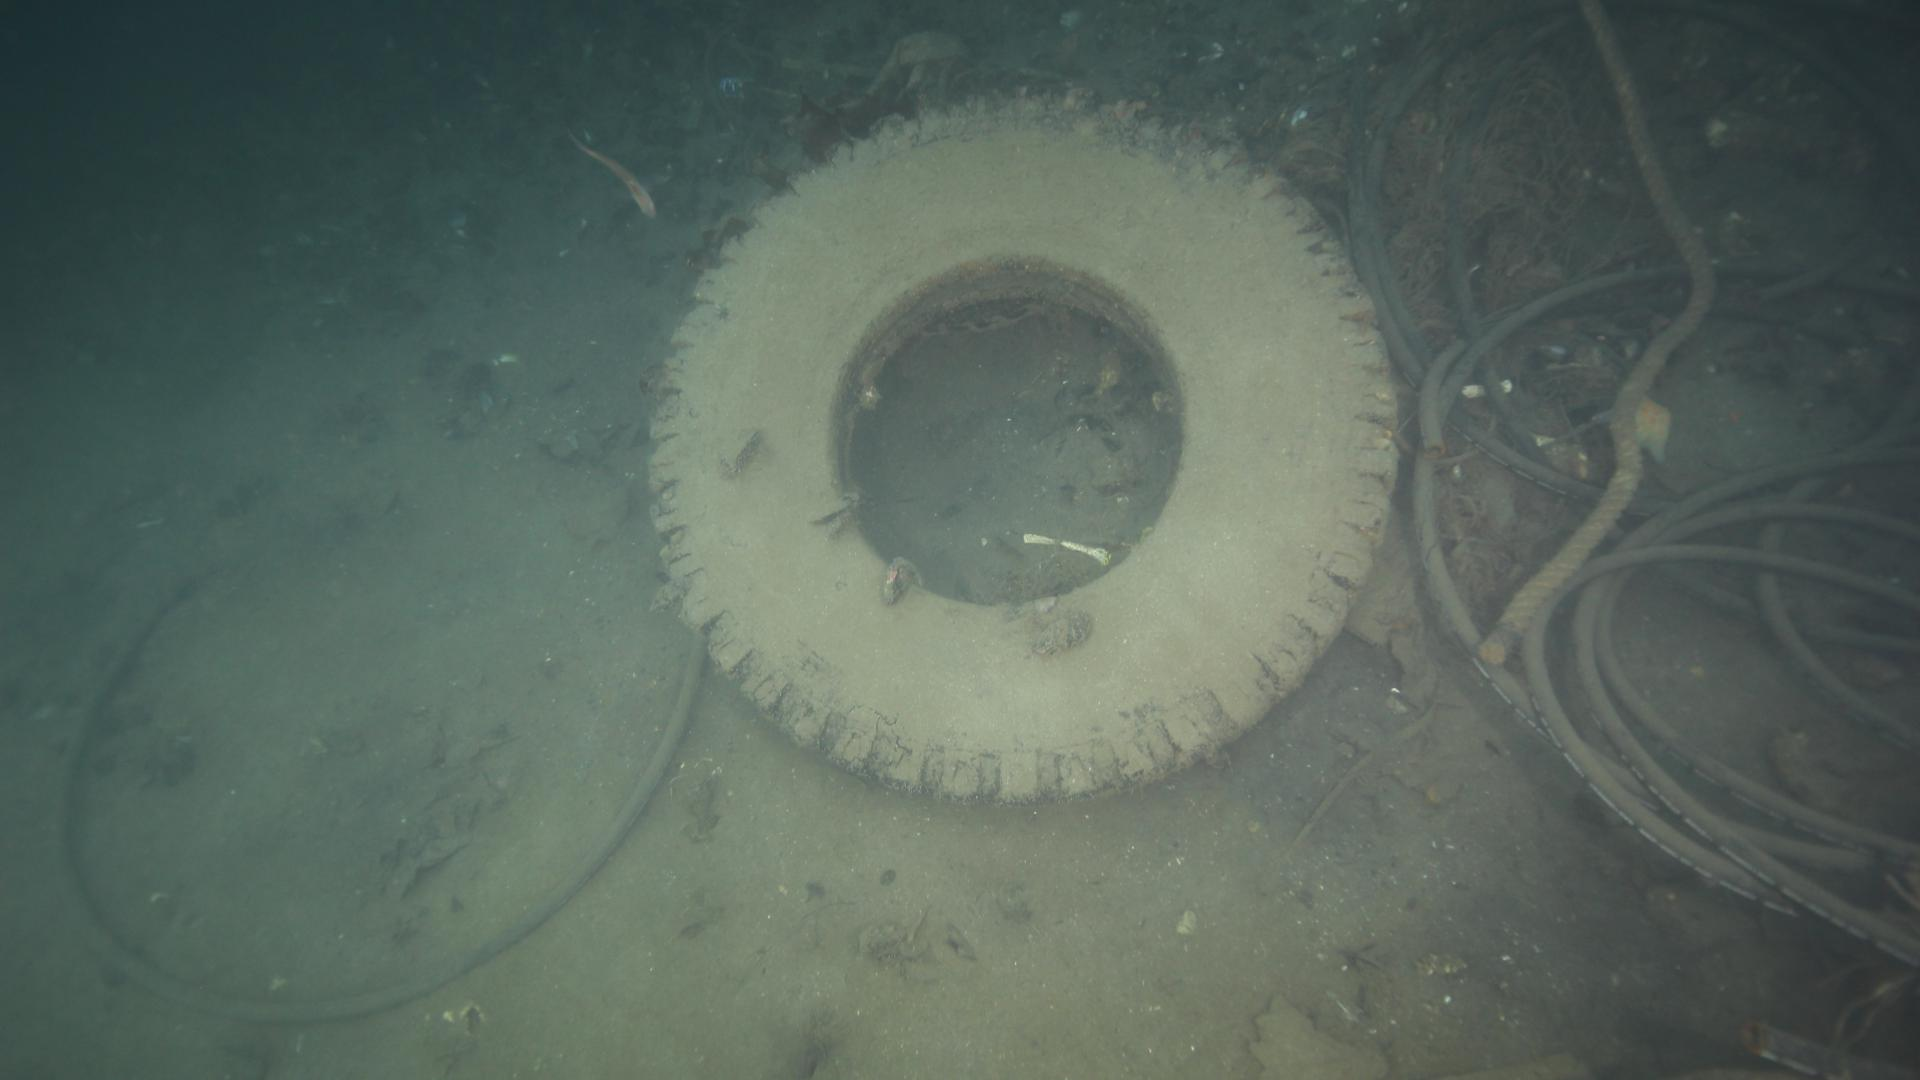rope: (1493, 0, 1717, 624)
tire: (649, 84, 1403, 806)
